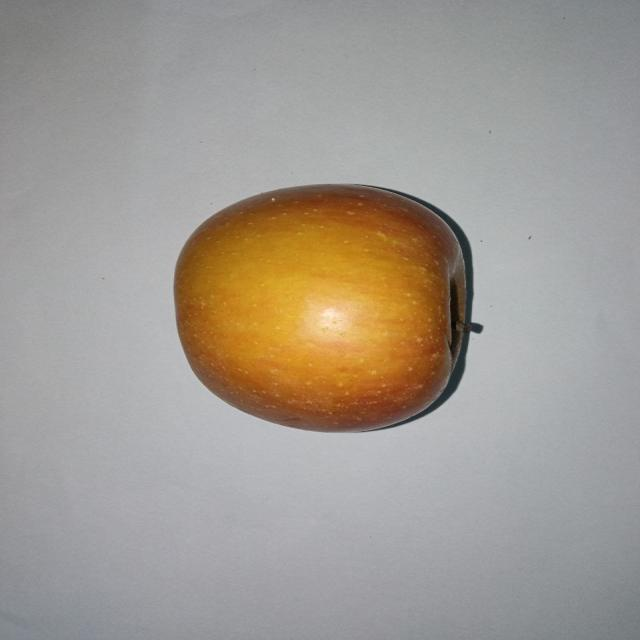fresh_apple: (173, 183, 476, 432)
